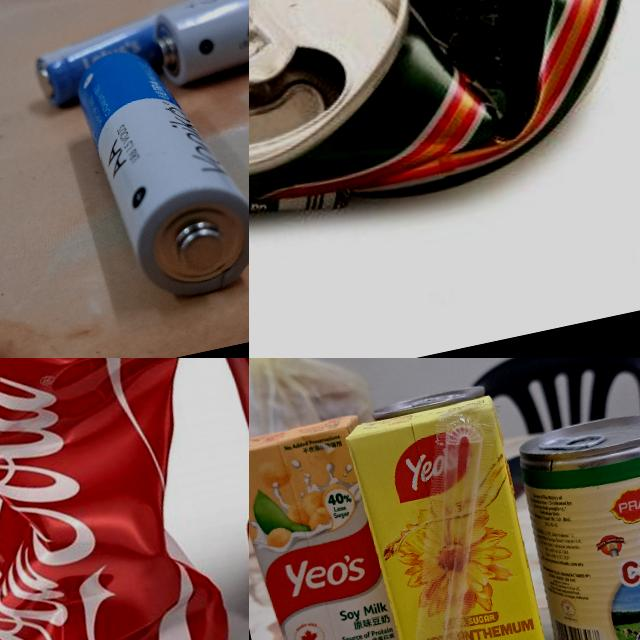aba de lata: (249, 0, 302, 100)
bateria: (70, 31, 249, 312), (27, 0, 240, 109), (146, 0, 249, 87)
caixinha: (343, 392, 564, 640), (249, 411, 417, 640)
lata: (249, 0, 640, 273), (0, 358, 249, 640), (514, 400, 640, 640), (162, 358, 249, 640)
